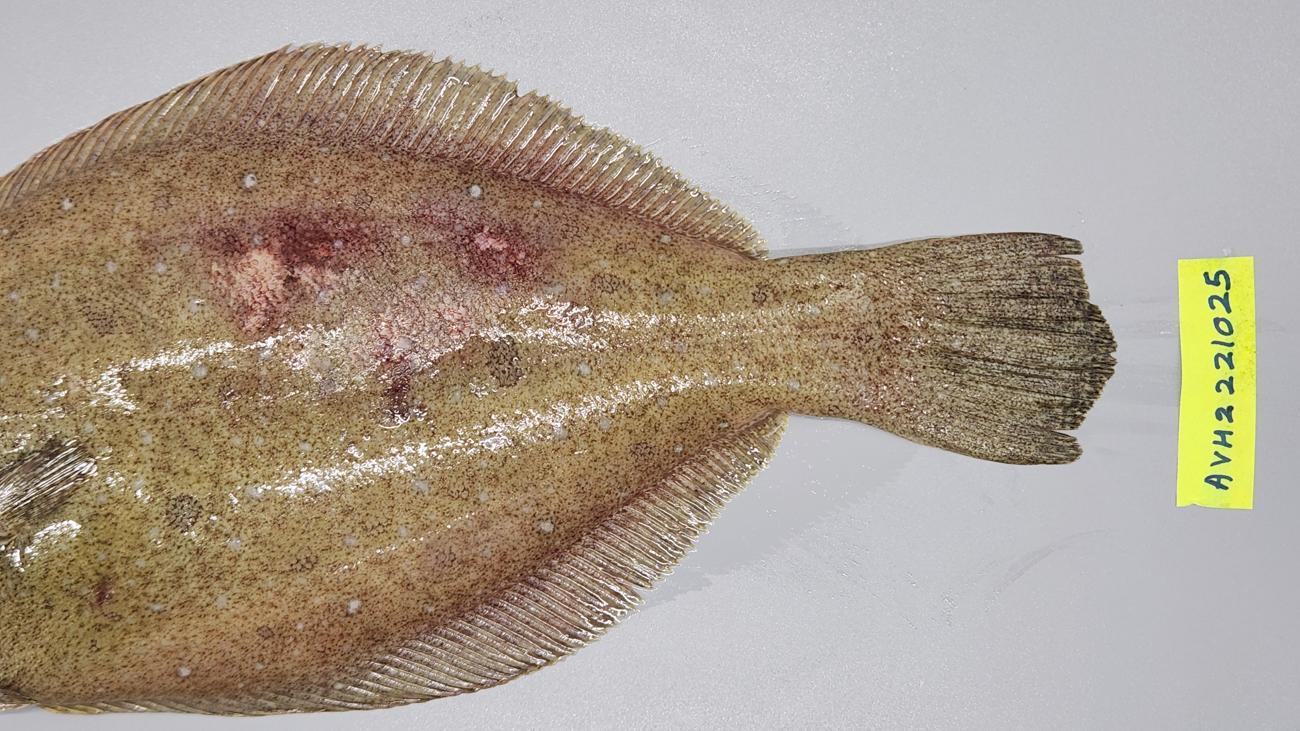VIDYH: (842, 254, 942, 424), (76, 560, 137, 630)
VIDYU: (193, 202, 385, 332), (374, 298, 475, 410), (454, 219, 539, 291)
VIFDH: (5, 41, 753, 252)
